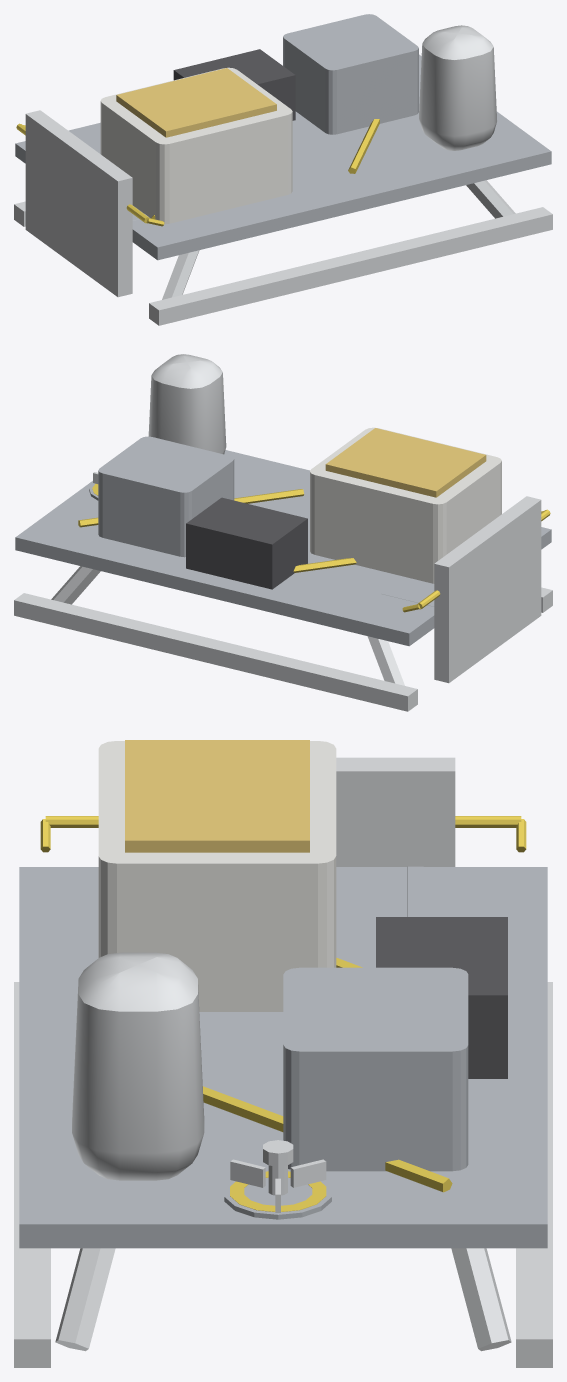
Rendered from orbital-station-and-docking-bays-external-stowage-plat-49f7875f__24546.glb.
3 views of the same model, one above another, from view 1: azimuth 30°, elevation 25°; view 2: azimuth 150°, elevation 25°; view 3: azimuth 270°, elevation 25° (orthographic). The views are drawn at different scales.
Visible parts, largest first — view 1: external-stowage-platform; view 2: external-stowage-platform; view 3: external-stowage-platform.
Boxes of the visible parts, x1=… form: external-stowage-platform: x1=14, y1=14, x2=552, y2=325; external-stowage-platform: x1=14, y1=354, x2=552, y2=711; external-stowage-platform: x1=14, y1=740, x2=552, y2=1367.
Bounding box in the file's own units: 3.32 × 1.49 × 2.04.
